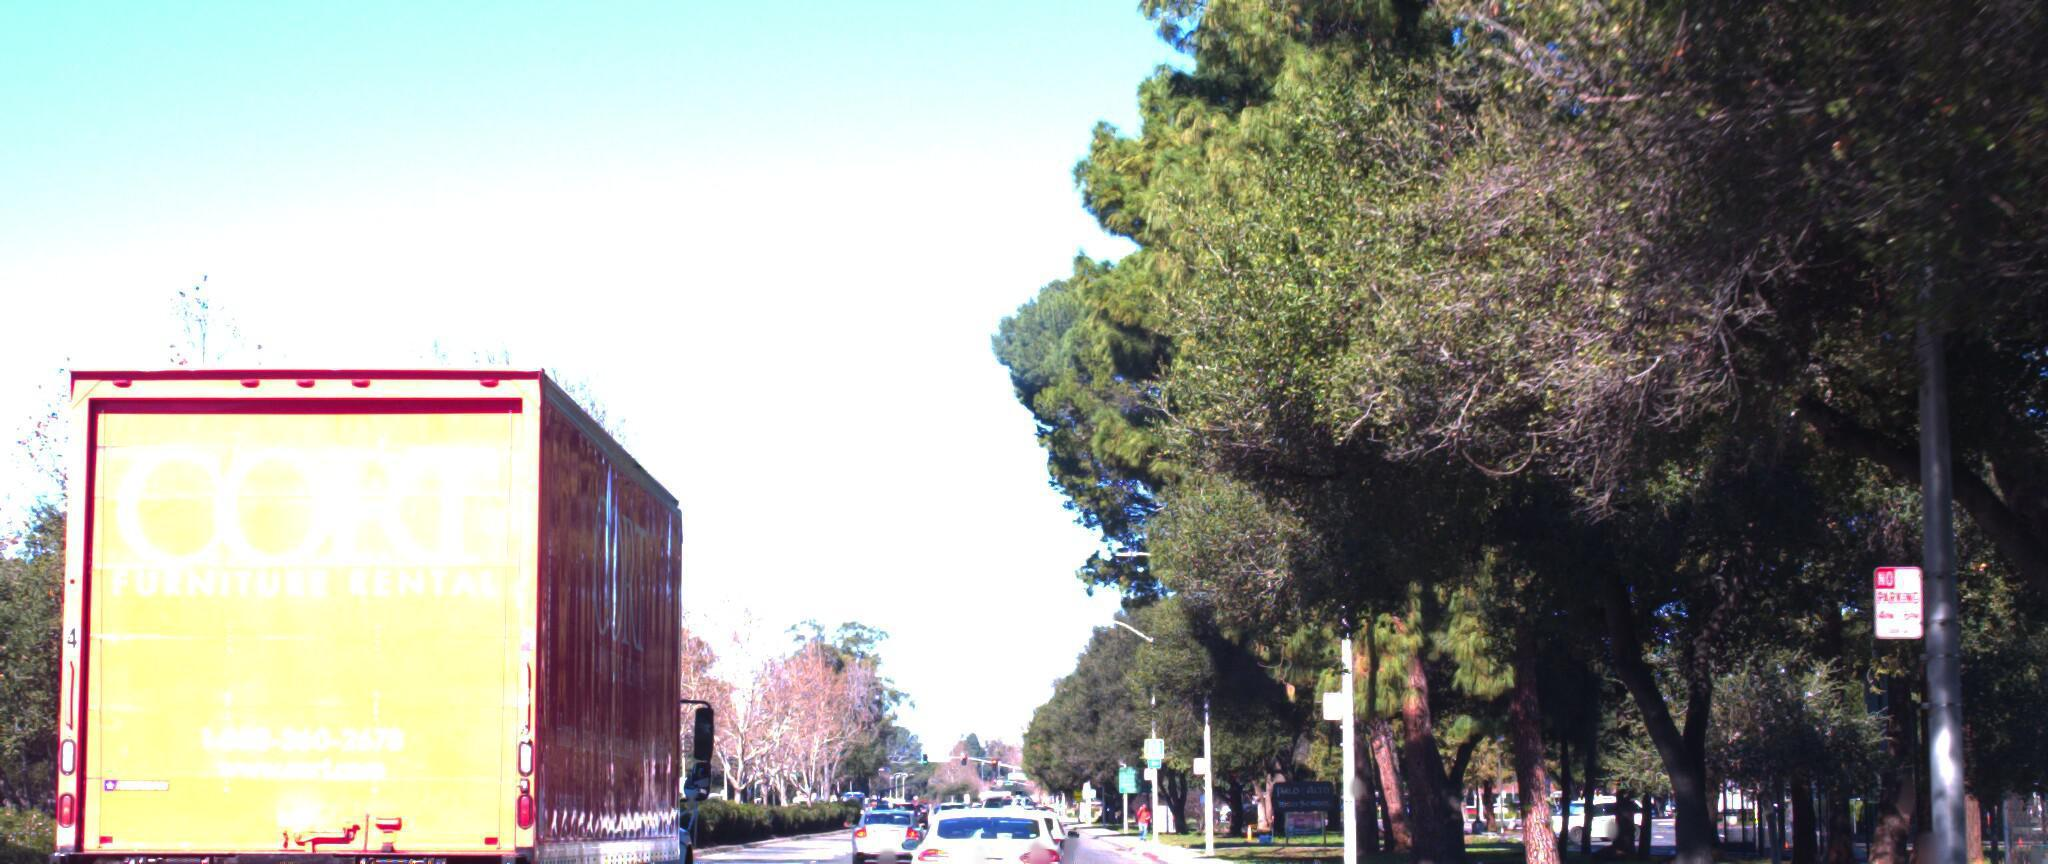car: (897, 784, 1078, 864), (849, 782, 933, 842)
truck: (3, 305, 765, 864)
